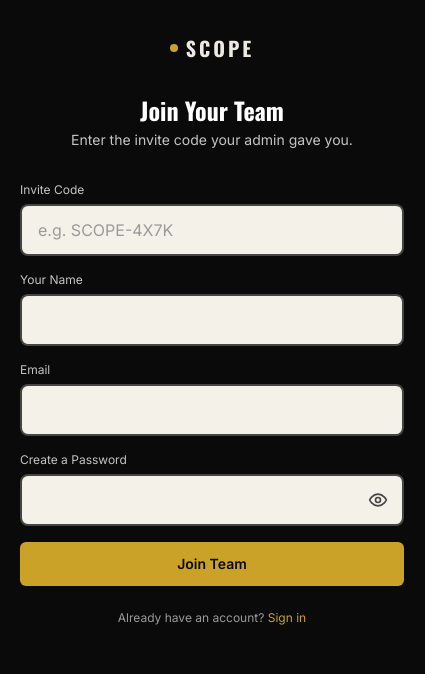
Join (signup + invite code redemption) › prompts for email confirmation when signUp succeeds without a session, and does not redeem the code yet
The image size is (425, 674).
Type "SCOPE-4X7K" into the field with placeholder "e.g. SCOPE-4X7K" at (212, 230), box [20,204,404,256]
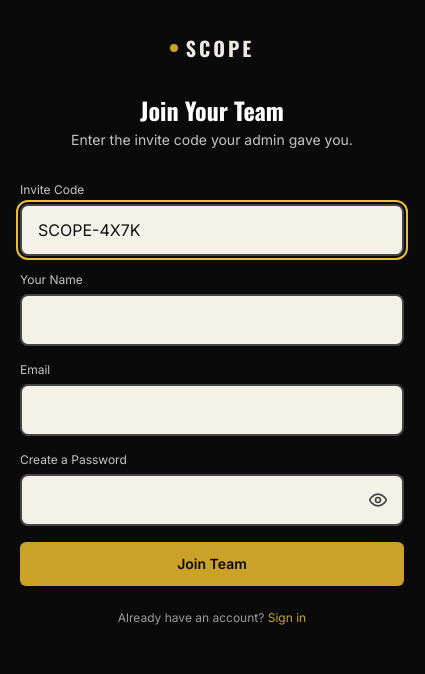
Type "Jamie Plumber" into the field below "Your Name" at (212, 320), box [20,294,404,346]
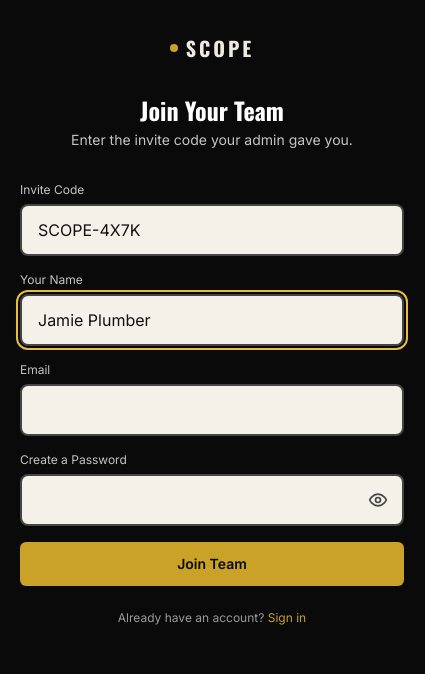
Type "jamie@scope.test" into the field below "Email" at (212, 410), box [20,384,404,436]
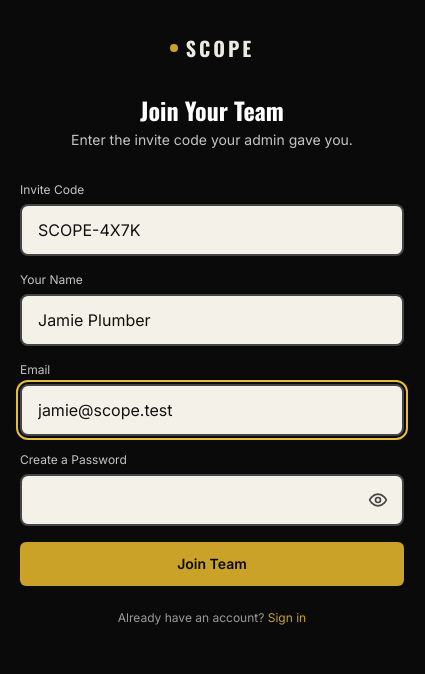
Type "hunter22" into the password field at (212, 500), box [20,474,404,526]
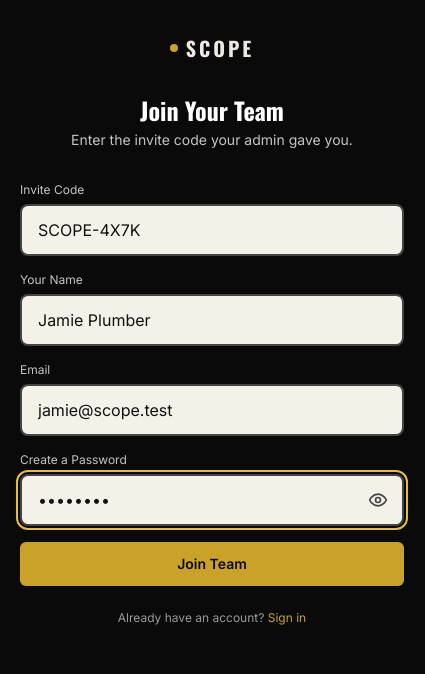
Click the button "Join Team" at (212, 564), box [20,542,404,586]
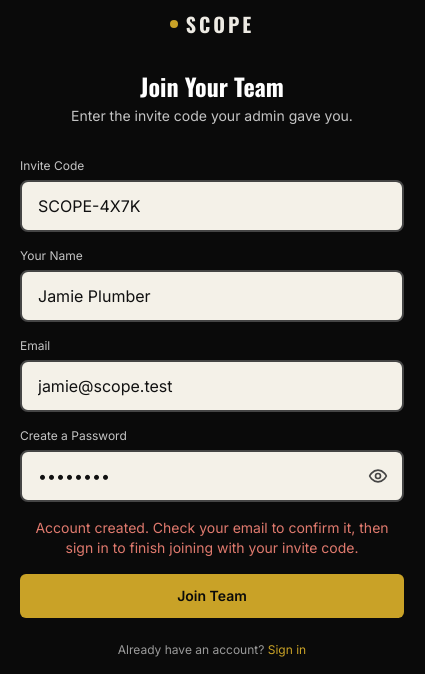
Result: the text "Check your email to confirm it" is shown at [35,519,389,556]
